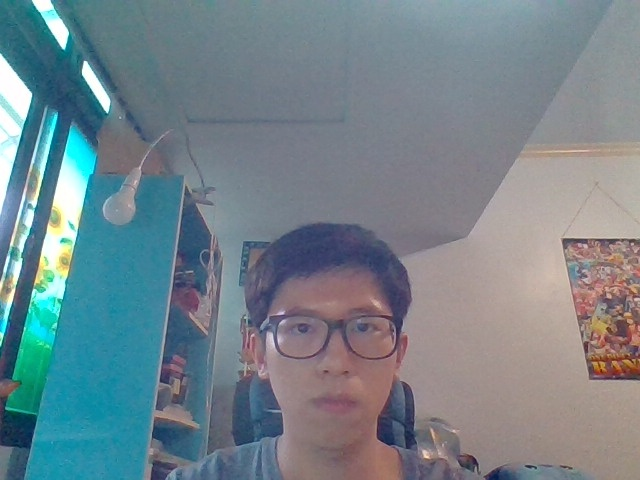NoMask: (248, 334, 411, 451)
